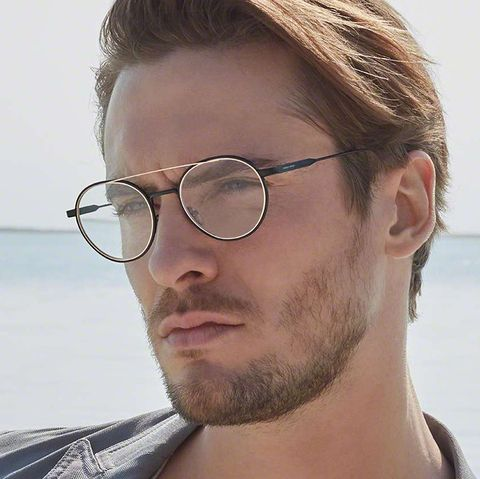BOY: (60, 1, 439, 421)
